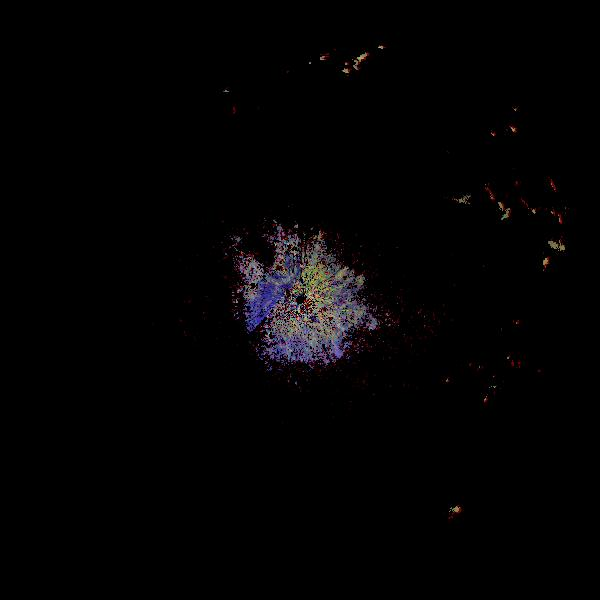roost: (423, 464, 582, 600)
